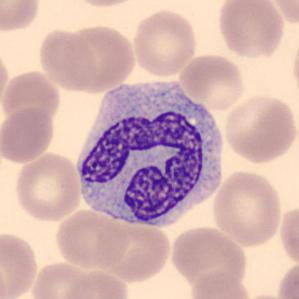Monocyte: (71, 74, 231, 232)
RBC: (210, 168, 284, 248), (90, 212, 172, 284), (222, 91, 297, 165), (61, 21, 137, 94), (168, 224, 249, 289), (12, 151, 84, 223), (130, 6, 200, 78), (53, 207, 131, 271), (215, 0, 286, 60), (36, 27, 99, 94), (177, 51, 247, 111), (0, 68, 63, 130), (0, 106, 57, 165), (0, 229, 40, 298), (116, 264, 194, 299), (29, 259, 96, 299), (63, 267, 131, 299), (187, 268, 252, 299), (0, 0, 43, 35), (278, 202, 298, 269), (275, 259, 297, 299), (268, 0, 299, 26), (0, 45, 11, 113), (289, 32, 299, 98), (66, 0, 146, 8)
